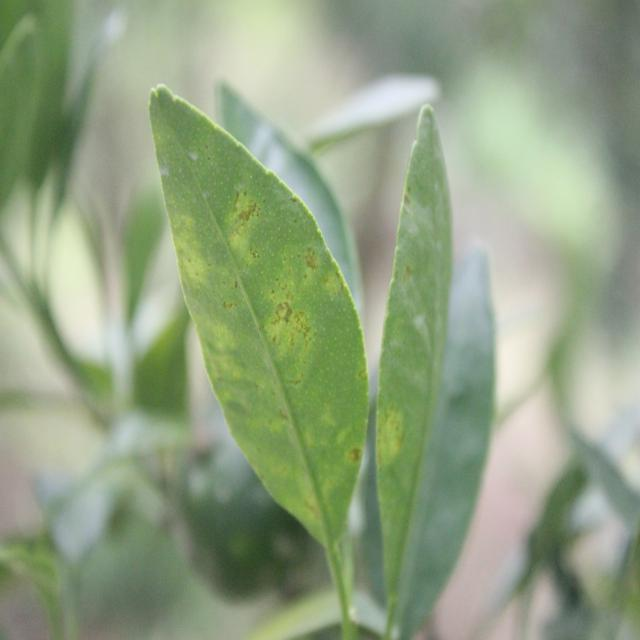canker: (152, 108, 360, 532), (379, 132, 457, 558)
